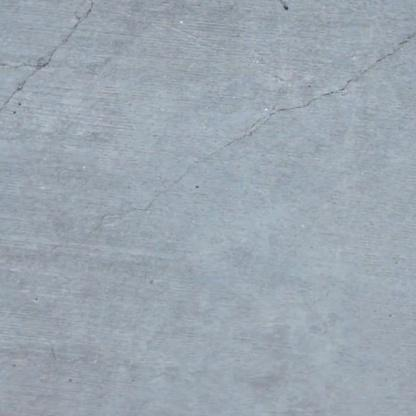Cracks: (0, 12, 416, 285), (0, 0, 117, 141)
